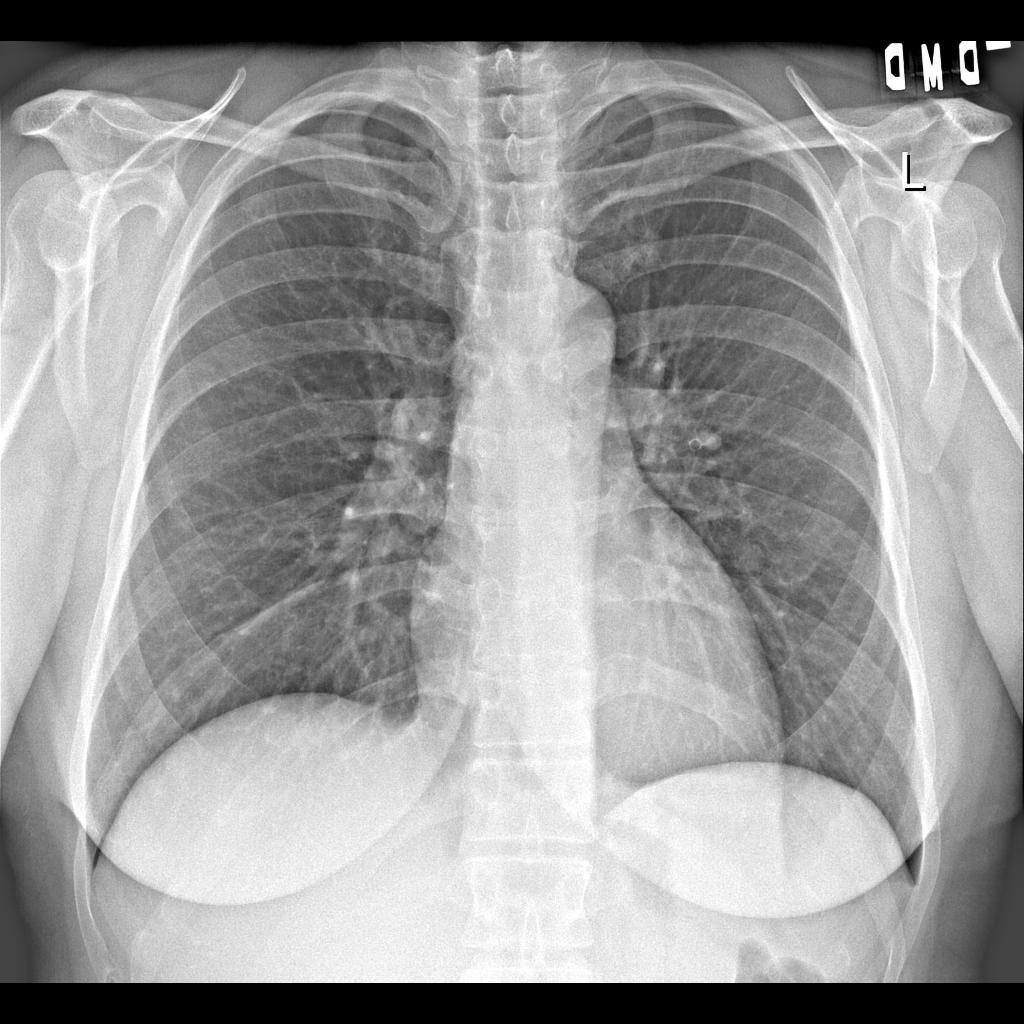Nodule: (721, 536, 778, 583)
